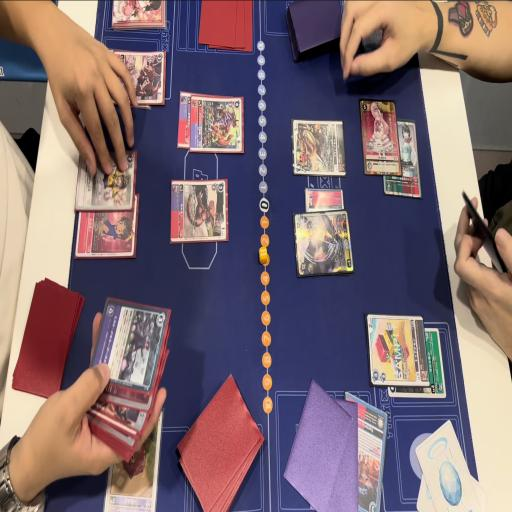card: (91, 292, 168, 388), (343, 386, 390, 512), (76, 188, 137, 264), (387, 326, 447, 403), (366, 316, 429, 387), (169, 176, 230, 248), (292, 208, 351, 277), (73, 151, 137, 212), (190, 94, 245, 156), (291, 118, 345, 176), (112, 50, 165, 106), (384, 117, 420, 199), (362, 100, 398, 176), (304, 186, 344, 214), (177, 92, 192, 148)
